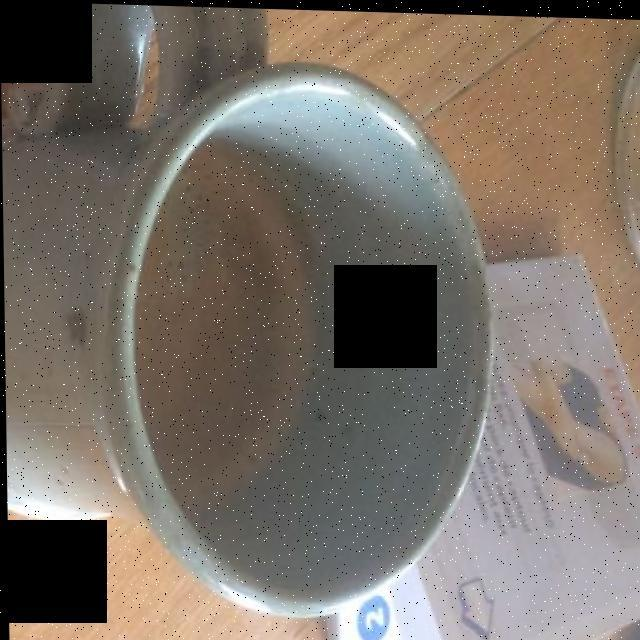coffee: (133, 149, 323, 521)
